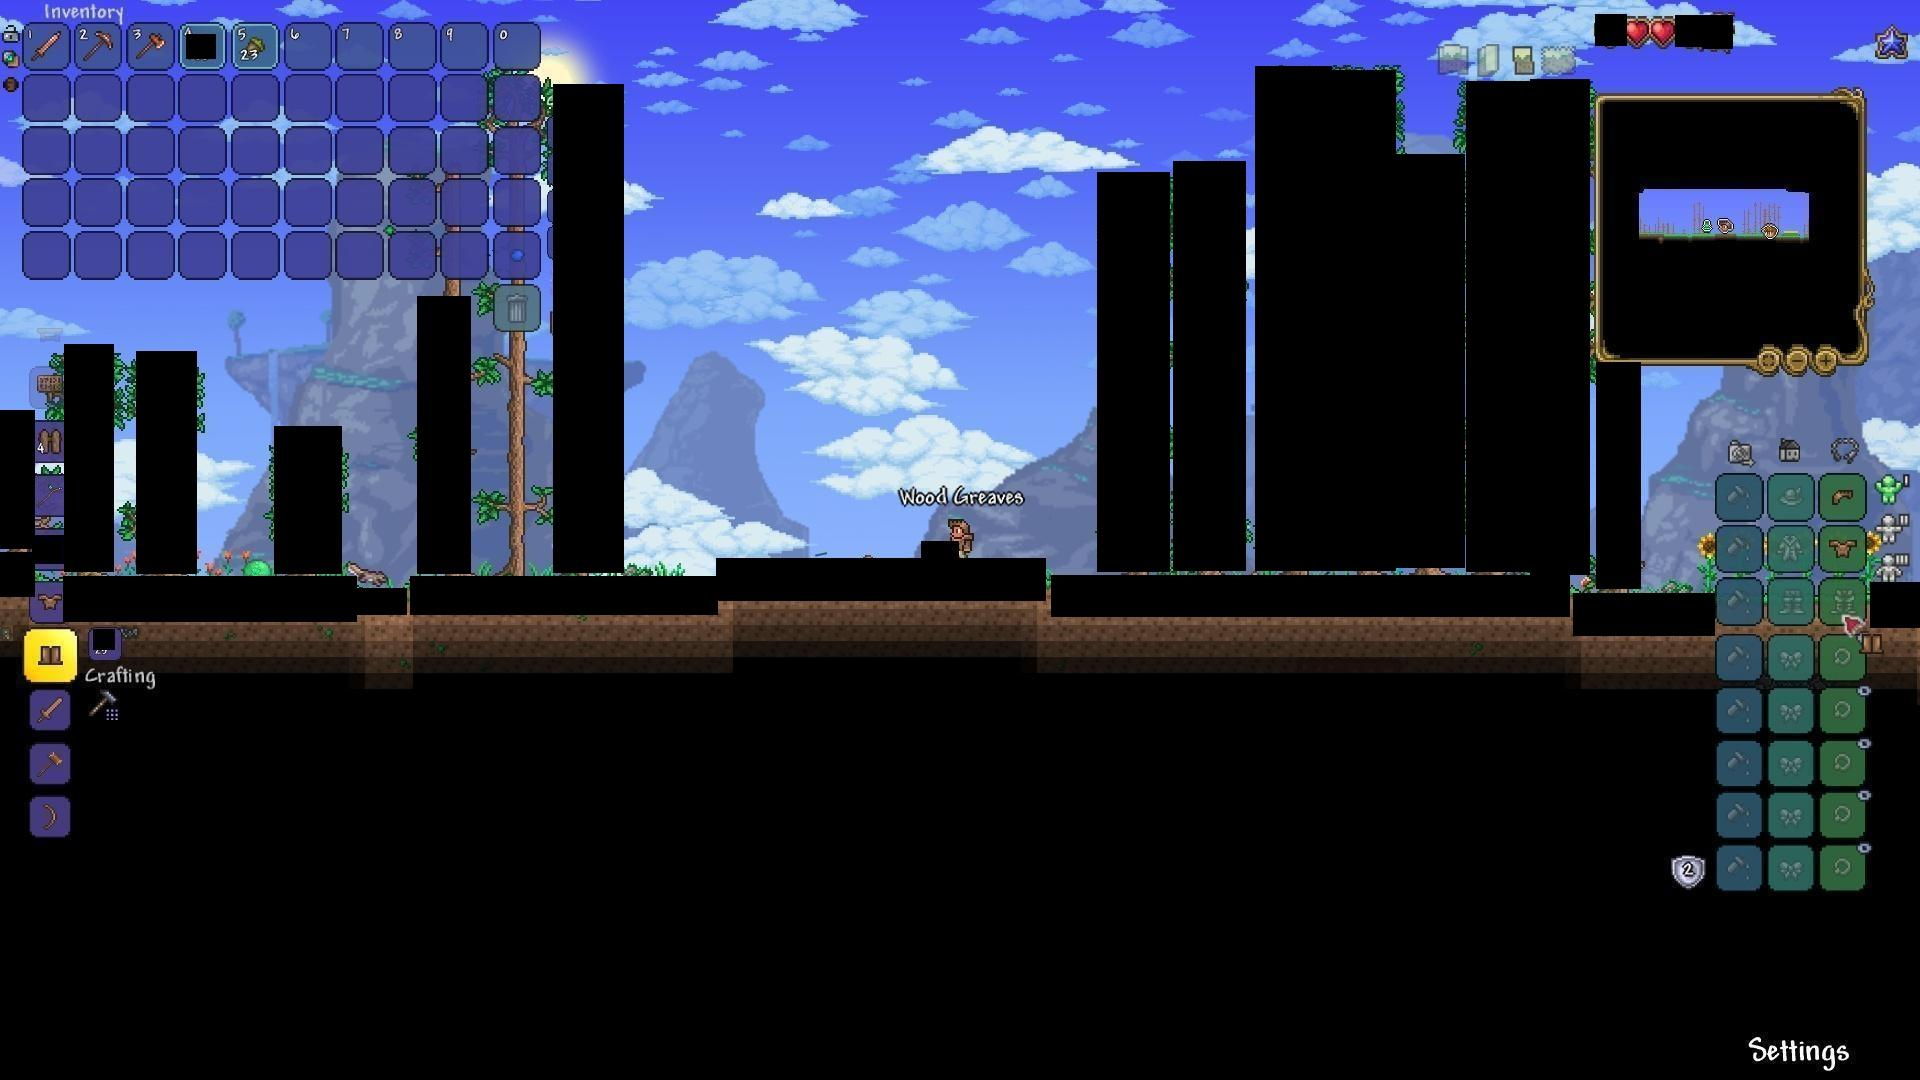breastplate: (36, 591, 62, 613), (1832, 538, 1859, 558)
heart: (1625, 17, 1652, 47), (1648, 17, 1676, 47)
helmet: (1826, 483, 1858, 510)
legs: (36, 641, 65, 669), (1858, 630, 1883, 658)
slime: (243, 560, 269, 583)
tree: (492, 340, 543, 574)
